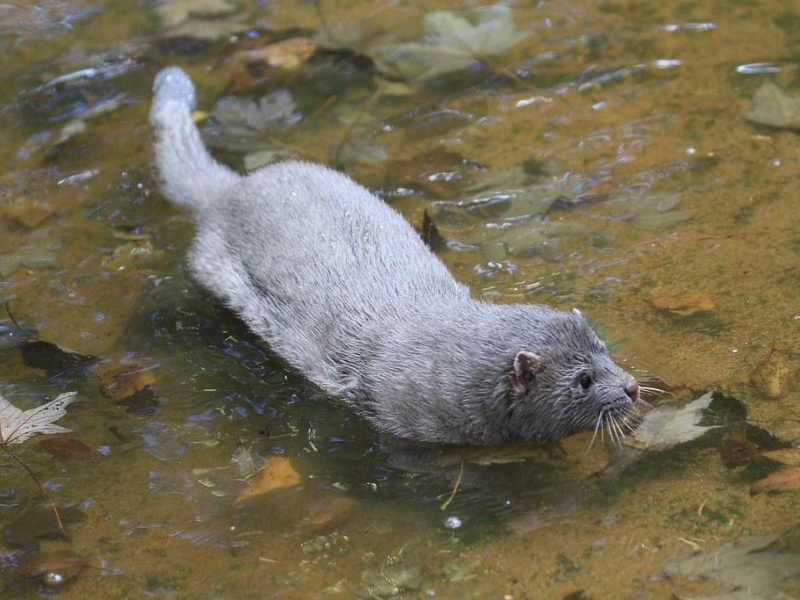minkish: (147, 62, 648, 459)
